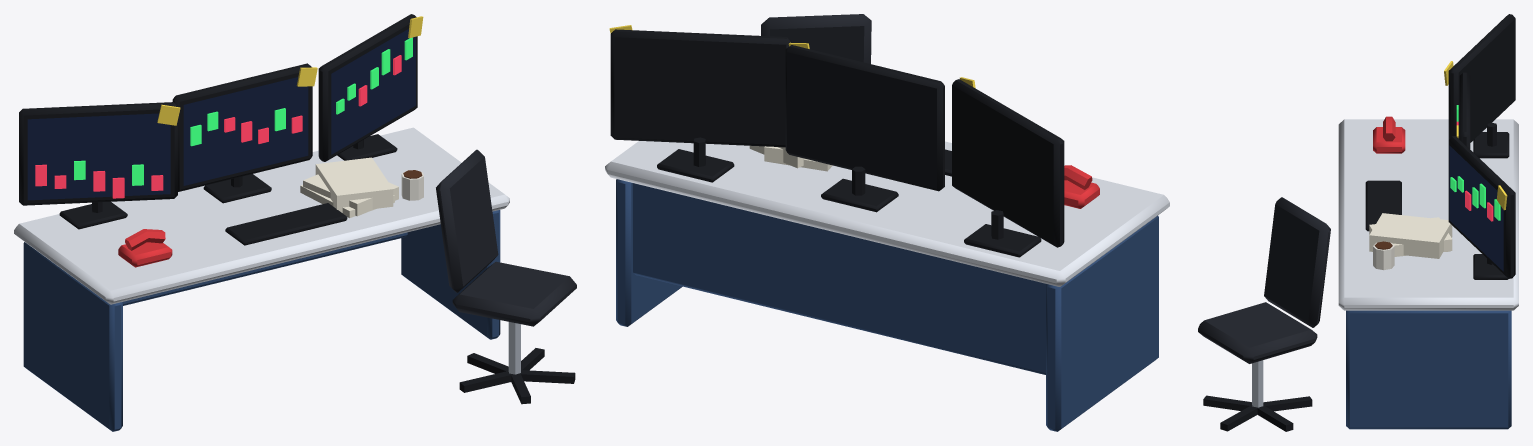
Rendered from ex_desk.glb.
The picture shows the model from 3 angles, left to right: view 1: azimuth 30°, elevation 25°; view 2: azimuth 150°, elevation 25°; view 3: azimuth 270°, elevation 25°; orthographic projection. The views are drawn at different scales.
Parts seen in each view (by area): view 1: ex_desk, fx_glow_screens; view 2: ex_desk; view 3: ex_desk, fx_glow_screens.
Boxes of the visible parts, box(x1,y1,x2,y2) form: ex_desk: box(14, 14, 576, 431); fx_glow_screens: box(27, 29, 415, 200); ex_desk: box(605, 14, 1169, 431); ex_desk: box(1198, 14, 1518, 431); fx_glow_screens: box(1449, 105, 1503, 271).
Size of the model in its own units: 2.48 by 1.48 by 1.78.
2 materials, 2 textured.
